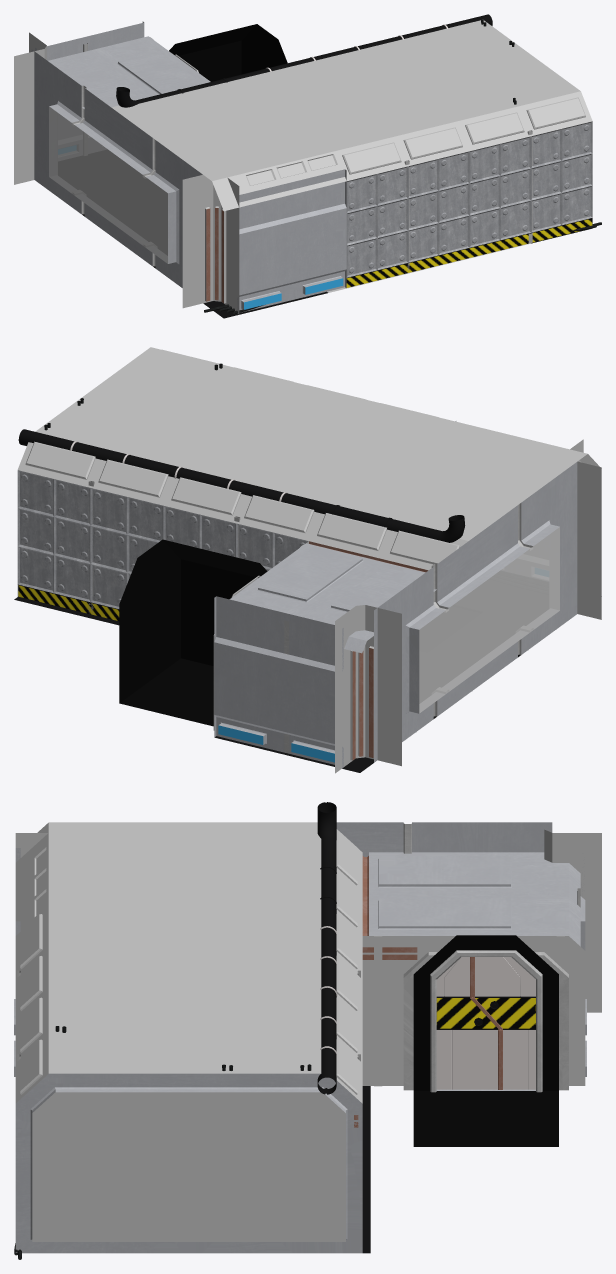
File: IRoom - Textures 02.fbx
3 renders of one model, top to bottom at view 1: azimuth 30°, elevation 25°; view 2: azimuth 150°, elevation 25°; view 3: azimuth 270°, elevation 25°, orthographic. The views are drawn at different scales.
Parts seen in each view (by area): view 1: Ceiling - Alcove, Mirror Wall, Wall - Floor Lights.001, Corner Pillar.001, Wall - Metal Panels.005, Wall - Metal Panels.006, Wall - Metal Panels.004, Wall - Metal Panels.007, Ceiling - Door Area, Void, Corner Pillar, Ceiling Panel.007 (+6 smaller); view 2: Ceiling - Alcove, Mirror Wall, Void, Wall - Floor Lights, Wall - Metal Panels.002, Ceiling - Door Area, Corner Pillar, Wall - Metal Panels.003, Big Pipe, Corner Pillar.001, Wall - Metal Panels.001, Ceiling Panel.001 (+7 smaller); view 3: Ceiling - Alcove, Wall - Alcove Back, Ceiling - Door Area, Door Wall, Void, Door.001, Mirror Wall, Big Pipe, Corner Pillar, Ceiling Panel.008, Ceiling Panel.007, Ceiling Panel.009 (+9 smaller).
Part boxes in pixels (x1,y1,x2,y2): Ceiling - Alcove: [111, 20, 580, 211]; Mirror Wall: [31, 49, 202, 287]; Wall - Floor Lights.001: [237, 169, 346, 314]; Corner Pillar.001: [182, 175, 239, 313]; Wall - Metal Panels.005: [346, 166, 408, 287]; Wall - Metal Panels.006: [469, 136, 531, 257]; Wall - Metal Panels.004: [407, 151, 469, 272]; Wall - Metal Panels.007: [531, 121, 592, 242]; Ceiling - Door Area: [48, 36, 210, 108]; Void: [169, 24, 287, 81]; Corner Pillar: [14, 32, 46, 184]; Ceiling Panel.007: [396, 121, 469, 166]; Ceiling - Alcove: [35, 347, 599, 540]; Mirror Wall: [374, 462, 577, 762]; Void: [119, 539, 267, 726]; Wall - Floor Lights: [214, 596, 343, 768]; Wall - Metal Panels.002: [17, 470, 90, 614]; Ceiling - Door Area: [229, 541, 436, 653]; Corner Pillar: [335, 605, 401, 773]; Wall - Metal Panels.003: [90, 488, 163, 620]; Big Pipe: [18, 429, 465, 542]; Corner Pillar.001: [570, 439, 601, 619]; Wall - Metal Panels.001: [163, 505, 235, 557]; Ceiling Panel.001: [309, 513, 392, 558]; Ceiling - Alcove: [15, 822, 321, 1073]; Wall - Alcove Back: [15, 1073, 362, 1253]; Ceiling - Door Area: [362, 852, 580, 946]; Door Wall: [362, 936, 585, 1092]; Void: [413, 935, 558, 1146]; Door.001: [436, 957, 535, 1089]; Mirror Wall: [336, 822, 552, 856]; Big Pipe: [317, 802, 337, 1094]; Corner Pillar: [544, 829, 601, 1012]; Ceiling Panel.008: [15, 1032, 48, 1103]; Ceiling Panel.007: [15, 948, 48, 1019]; Ceiling Panel.009: [15, 990, 48, 1061].
Bounding box in the file's own units: 1949 × 690 × 1780.
